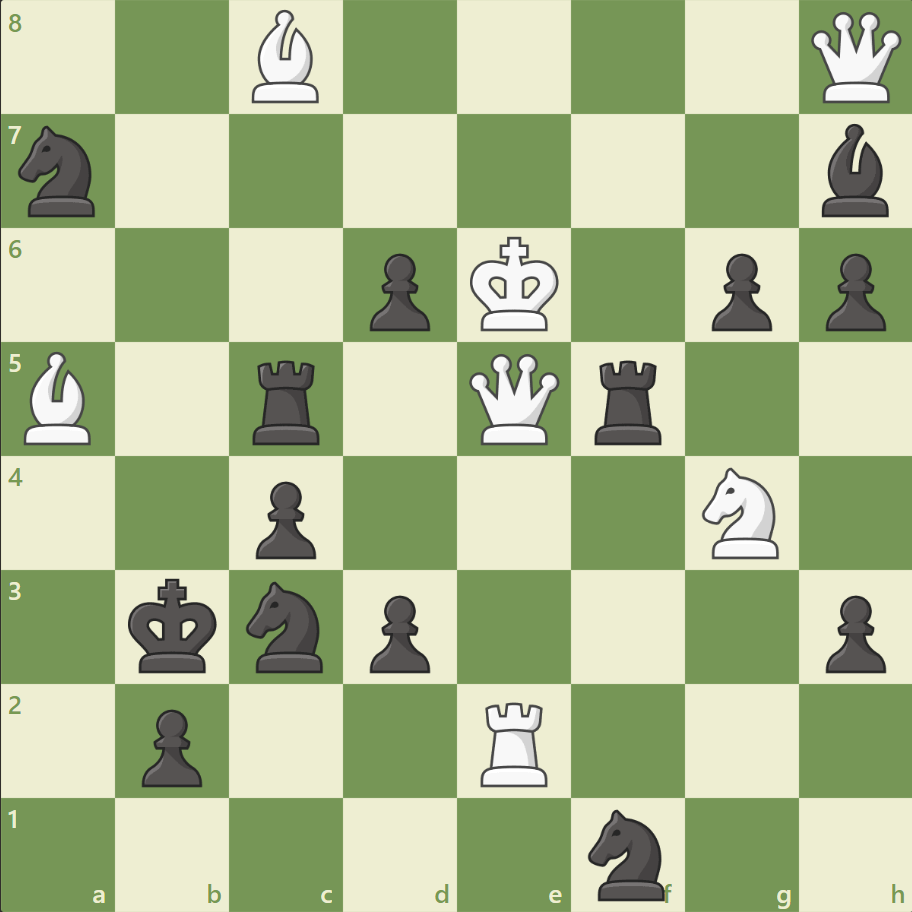B: (244, 6, 328, 109), (17, 347, 101, 449)
K: (465, 231, 565, 339)
N: (692, 461, 789, 564)
Q: (464, 349, 563, 449), (805, 9, 904, 108)
R: (473, 693, 556, 790)
b: (812, 120, 896, 222)
k: (124, 571, 224, 679)
n: (11, 121, 108, 223), (238, 575, 335, 677), (579, 802, 676, 904)
p: (701, 246, 776, 337), (247, 473, 322, 564), (133, 700, 208, 791), (361, 246, 435, 337), (815, 246, 889, 337), (361, 586, 435, 677), (815, 586, 889, 677)
r: (246, 352, 329, 449), (587, 352, 670, 449)
